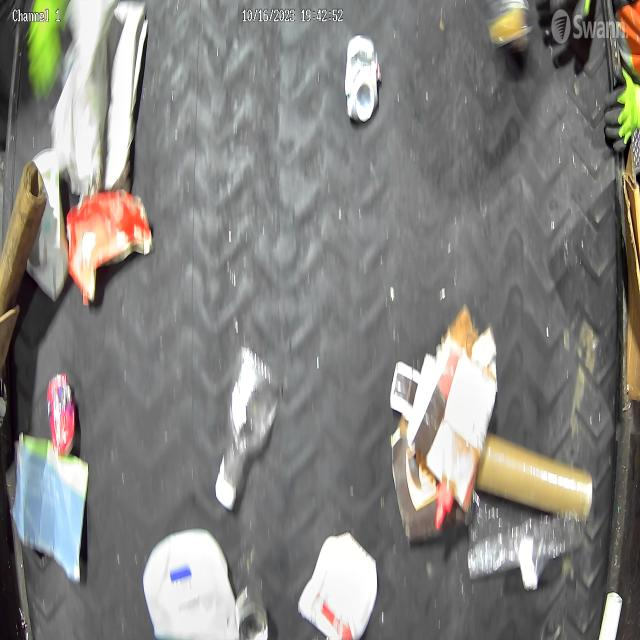can: (345, 34, 381, 122), (46, 372, 78, 460), (235, 585, 269, 640)
milk_jug: (142, 527, 239, 640)
plastic_bottle: (213, 345, 280, 513)
